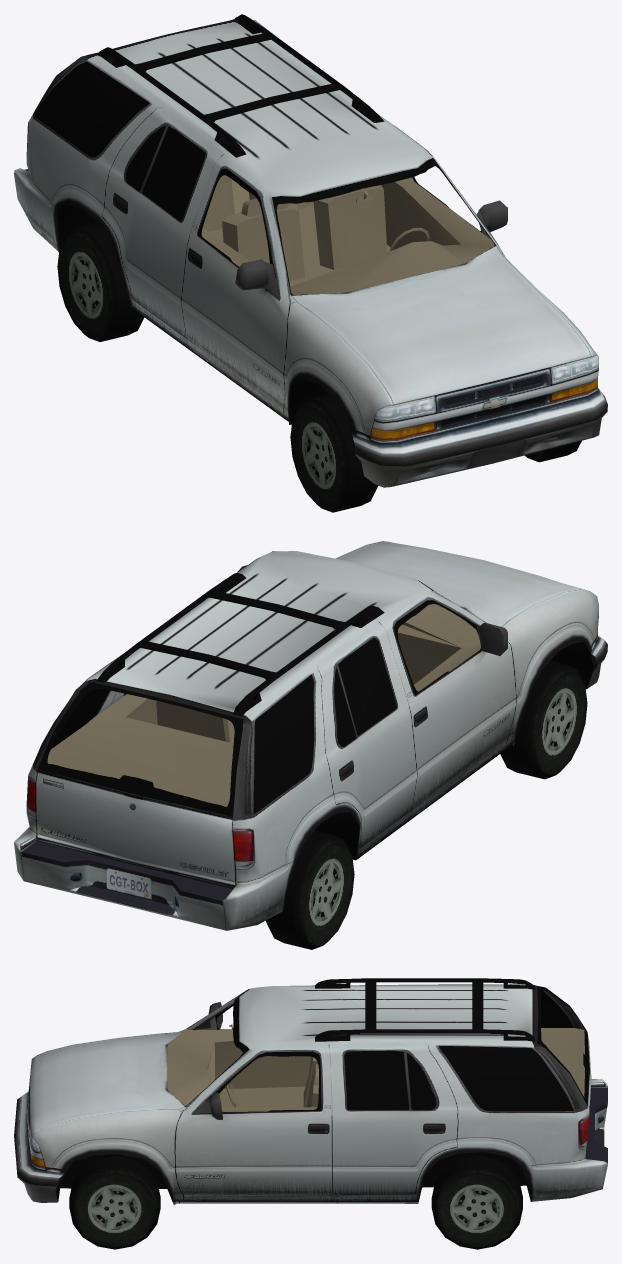
The model's file is CBWhi.obj.
3 views of the same model, one above another, from view 1: azimuth 30°, elevation 25°; view 2: azimuth 150°, elevation 25°; view 3: azimuth 270°, elevation 25° (orthographic). The views are drawn at different scales.
Visible parts, largest first — view 1: CBWhiB, CBWhiI, CBWhiG, CBWhiT02, CBWhiT03; view 2: CBWhiB, CBWhiI, CBWhiG, CBWhiT02, CBWhiT03; view 3: CBWhiB, CBWhiG, CBWhiI, CBWhiT01, CBWhiT00.
Part boxes in pixels (left/top/right/bottom): CBWhiB: left=14, top=14, right=607, bottom=487; CBWhiI: left=201, top=175, right=494, bottom=295; CBWhiG: left=34, top=19, right=495, bottom=295; CBWhiT02: left=57, top=222, right=144, bottom=341; CBWhiT03: left=290, top=393, right=377, bottom=512; CBWhiB: left=14, top=541, right=607, bottom=930; CBWhiI: left=47, top=604, right=486, bottom=806; CBWhiG: left=37, top=582, right=481, bottom=816; CBWhiT02: left=266, top=830, right=354, bottom=949; CBWhiT03: left=500, top=661, right=587, bottom=779; CBWhiB: left=14, top=978, right=607, bottom=1204; CBWhiG: left=171, top=986, right=589, bottom=1112; CBWhiI: left=167, top=1024, right=584, bottom=1111; CBWhiT01: left=69, top=1156, right=160, bottom=1249; CBWhiT00: left=431, top=1156, right=522, bottom=1249.
Bounding box in the file's own units: 74.53 × 68.98 × 183.
Materials: 4 (2 with a texture image).
